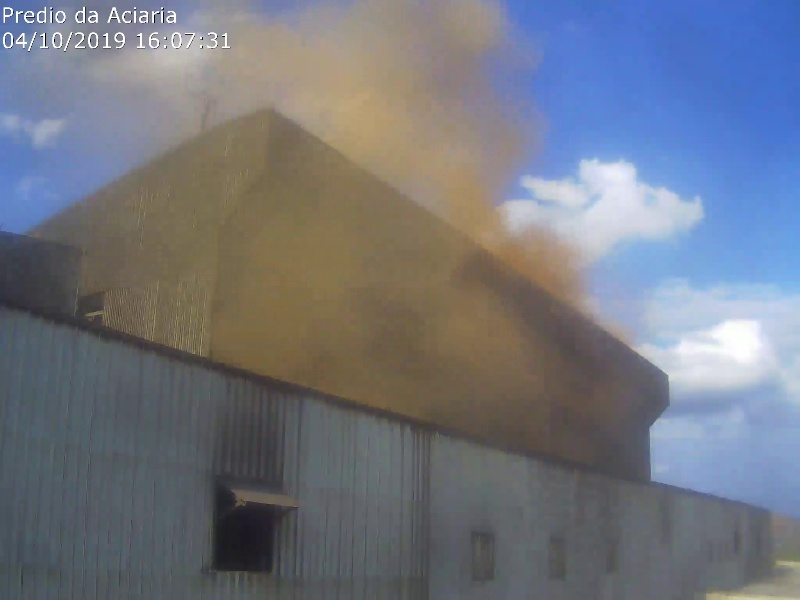pessimo: (233, 14, 620, 447)
